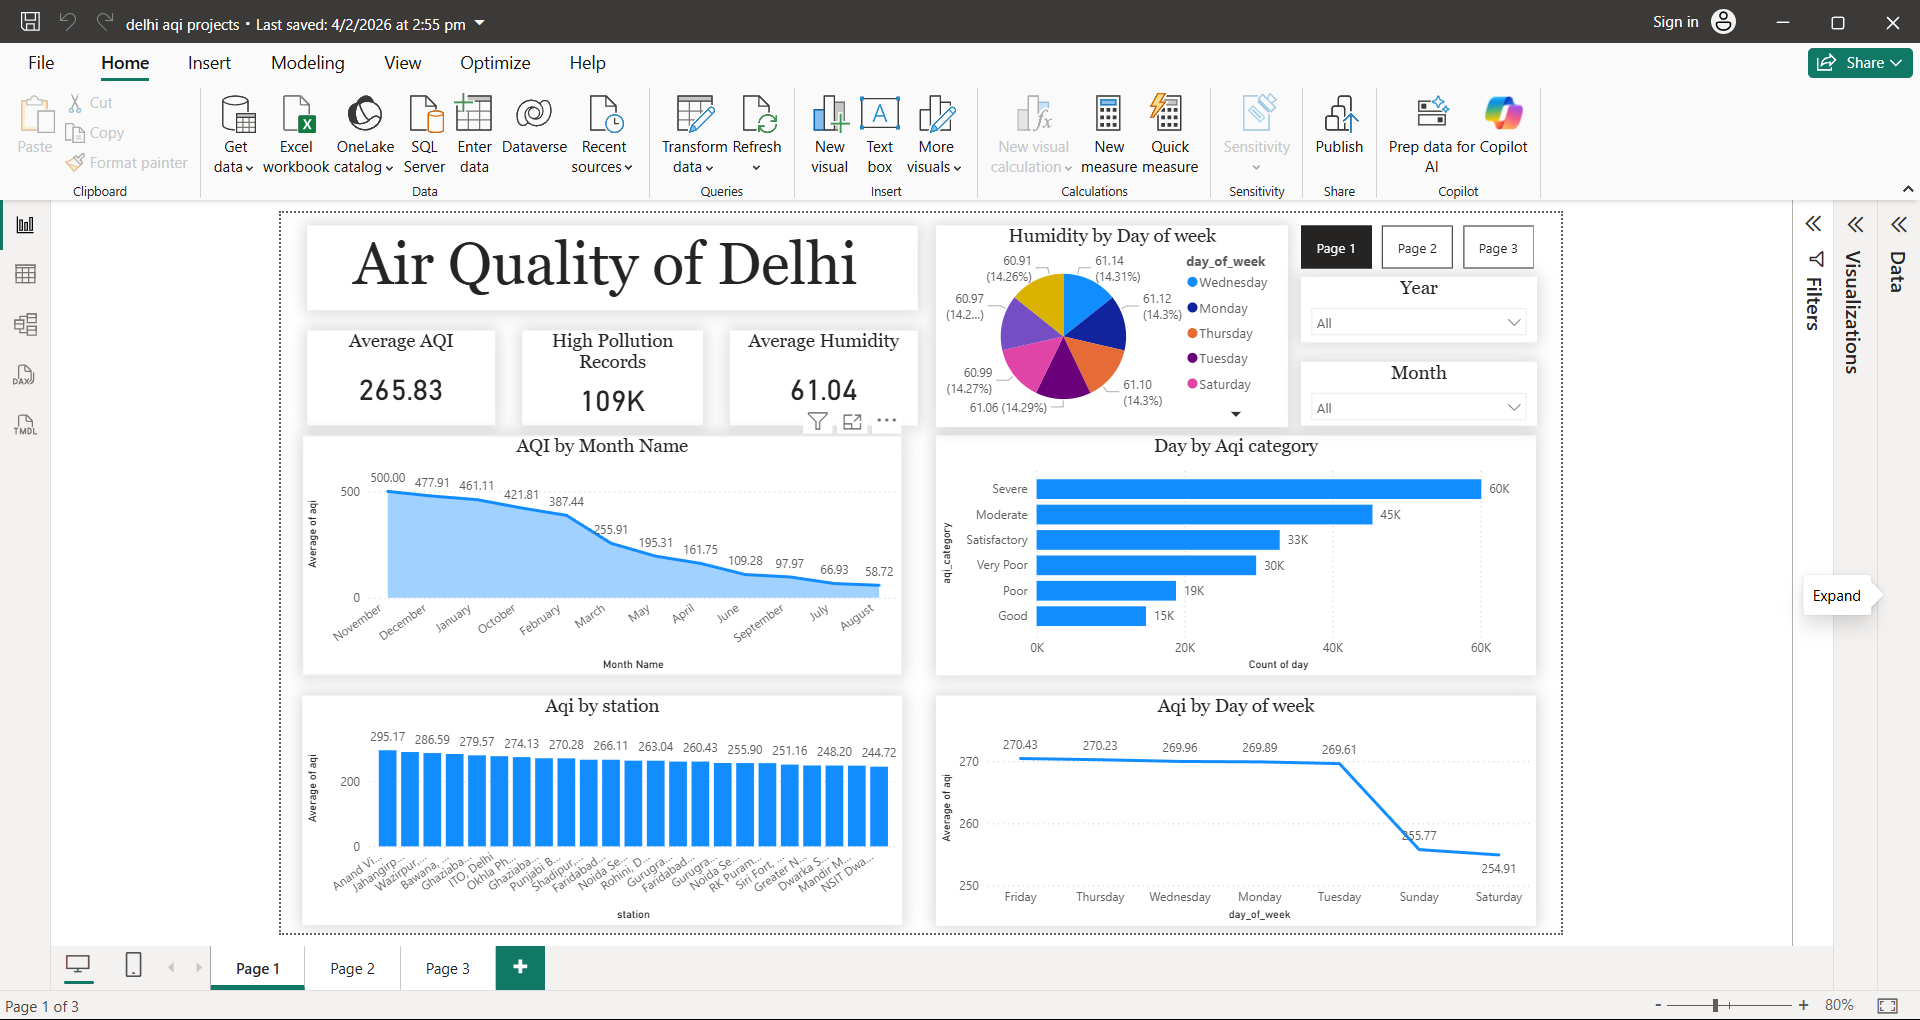

This screenshot's page, from the dashboard's own definition file:
{"tool":"powerbi","page":{"name":"Page 1","canvas":[1280,720],"ordinal":0},"visuals":[{"type":"textbox","box":[26.9,11.9,610.4,85.1],"z":0},{"type":"card","title":"Average AQI","fields":{"Values":["delhi_ncr_aqi_dataset.Average AQI"]},"box":[26.9,117.9,188.1,95.5],"z":1000},{"type":"card","title":"High Pollution Records","fields":{"Values":["delhi_ncr_aqi_dataset.High Pollution Records"]},"box":[241.8,117.9,180.6,95.5],"z":2000},{"type":"card","title":"Average Humidity","fields":{"Values":["delhi_ncr_aqi_dataset.Average Humidity"]},"box":[449.3,117.9,188.1,95.5],"z":3000},{"type":"lineChart","title":"AQI  by Month Name","fields":{"Y":["Avg(delhi_ncr_aqi_dataset.aqi)"],"Category":["delhi_ncr_aqi_dataset.Month Name"]},"box":[20.9,222.4,600,240.3],"z":4000},{"type":"barChart","title":"Day by Aqi category","fields":{"Category":["delhi_ncr_aqi_dataset.aqi_category"],"Y":["CountNonNull(delhi_ncr_aqi_dataset.day)"]},"box":[655.2,222.4,600,240.3],"z":5000},{"type":"pieChart","title":"Humidity by Day of week","fields":{"Y":["Avg(delhi_ncr_aqi_dataset.humidity)"],"Category":["delhi_ncr_aqi_dataset.day_of_week"]},"box":[655.2,11.9,352.2,201.5],"z":6000},{"type":"columnChart","title":"Aqi by station","fields":{"Category":["delhi_ncr_aqi_dataset.station"],"Y":["Avg(delhi_ncr_aqi_dataset.aqi)"]},"box":[20.9,482.1,600,229.9],"z":7000},{"type":"lineChart","title":"Aqi by Day of week","fields":{"Category":["delhi_ncr_aqi_dataset.day_of_week"],"Y":["Avg(delhi_ncr_aqi_dataset.aqi)"]},"box":[655,482,600,230],"z":8000},{"type":"slicer","title":"Year","fields":{"Values":["delhi_ncr_aqi_dataset.year"]},"box":[1019.4,64.2,235.8,65.7],"z":9000},{"type":"slicer","title":"Month","fields":{"Values":["delhi_ncr_aqi_dataset.season"]},"box":[1019.4,149.3,235.8,64.2],"z":10000},{"type":"pageNavigator","box":[1019.4,11.9,235.8,43.3],"z":11000}]}

Visuals, with their boxes on the page's 1280x720 design canvas (x1, y1, x2, y2). These are canvas units, not pixel positions in the 1920x1020 screenshot, which may show the page scaled, cropped or inside an application window:
textbox: 27,12,637,97
"Average AQI" card: 27,118,215,213
"High Pollution Records" card: 242,118,422,213
"Average Humidity" card: 449,118,637,213
"AQI  by Month Name" lineChart: 21,222,621,463
"Day by Aqi category" barChart: 655,222,1255,463
"Humidity by Day of week" pieChart: 655,12,1007,213
"Aqi by station" columnChart: 21,482,621,712
"Aqi by Day of week" lineChart: 655,482,1255,712
"Year" slicer: 1019,64,1255,130
"Month" slicer: 1019,149,1255,214
pageNavigator: 1019,12,1255,55
